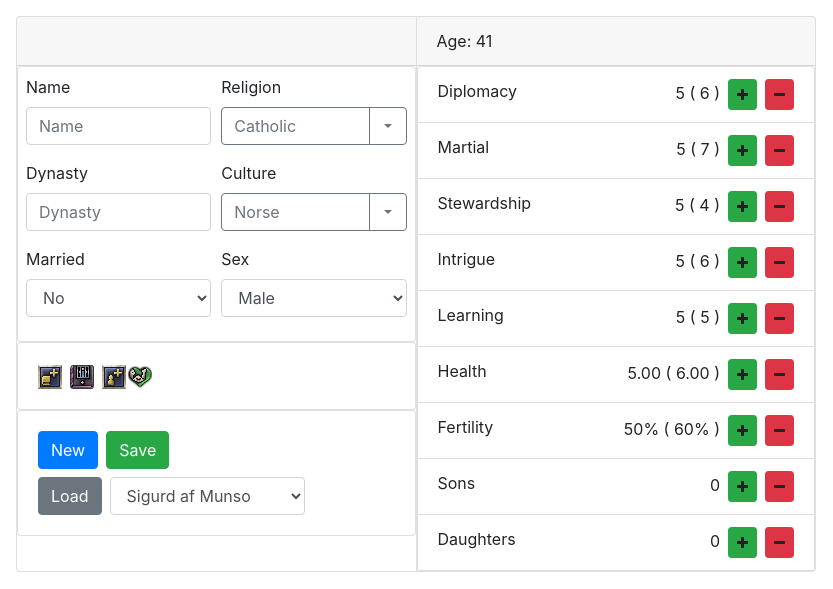
Test: parses the effects when a trait is removed
This screenshot has width=833, height=589.
Click the picture with alt text "Traits Dropdown Toggle": coordinates (114, 377) 102,365 -> 126,389
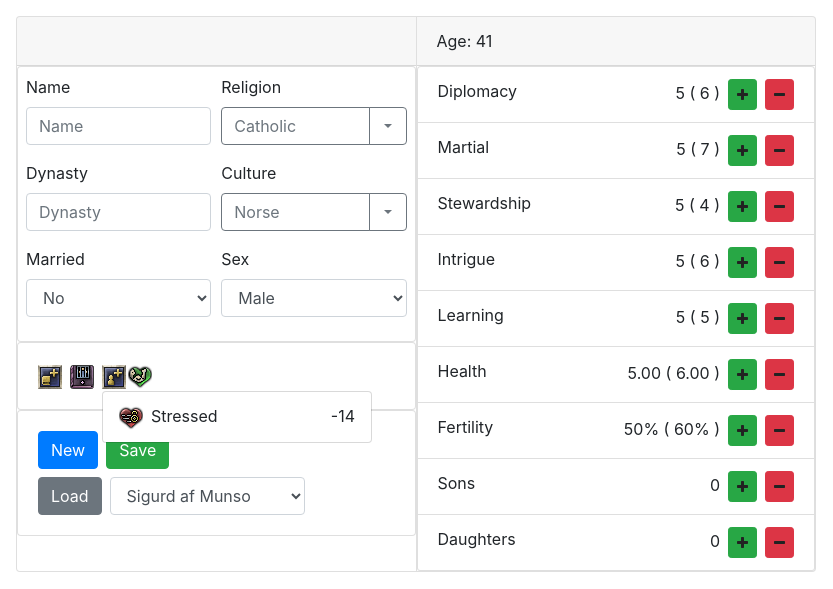
Click the picture with alt text "Strong": coordinates (140, 377) 128,365 -> 152,389
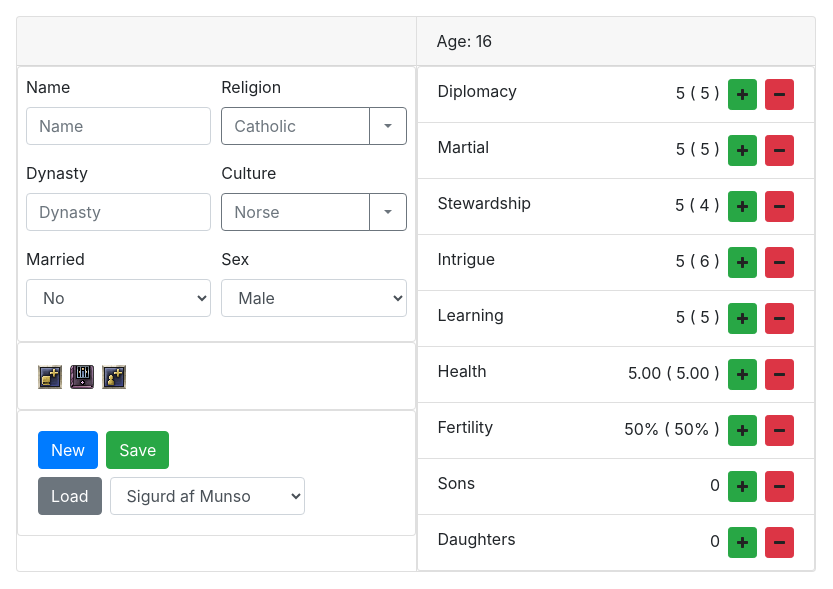
Check: the picture with alt text "Strong" is gone
Check: the text labelled "Age" reads "Age: 16", box 416,17 -> 815,66
Check: the text "Diplomacy" shows "5 ( 5 )", box 676,83 -> 720,103
